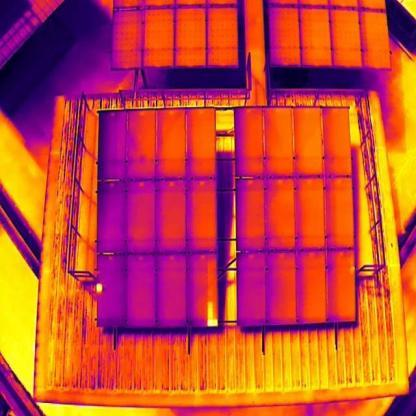anomaly: (205, 299, 218, 329), (94, 281, 104, 295)
